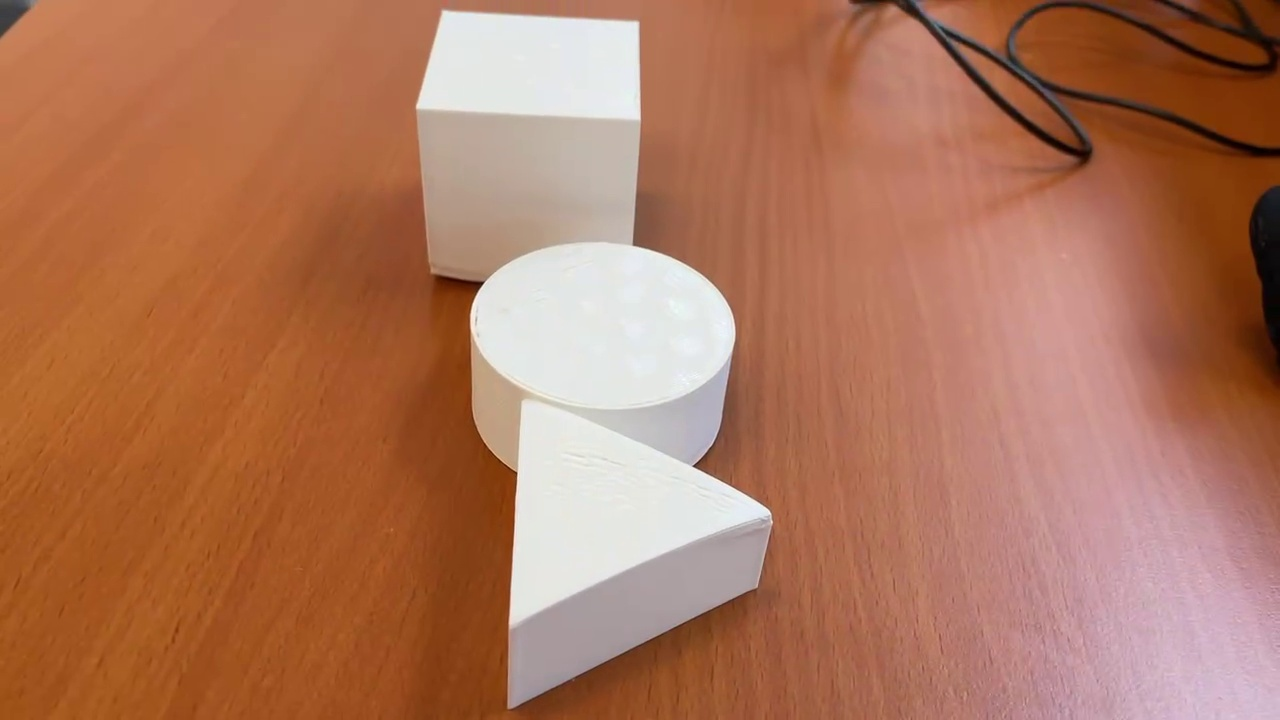Cube: (412, 7, 648, 289)
Cylinder_short: (471, 242, 737, 478)
Triangle_short: (508, 400, 772, 707)
